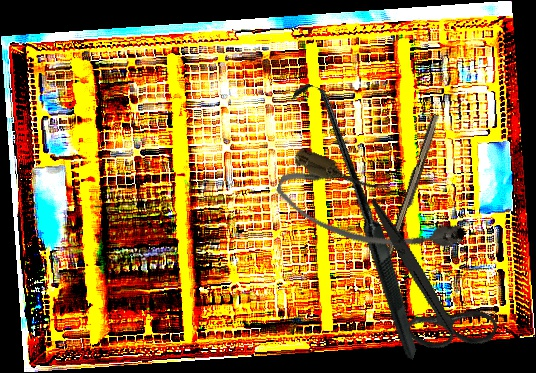Cannula: (269, 144, 472, 280)
Hook Surgical: (220, 80, 492, 360)
Iris Scissors: (326, 198, 526, 370)
Scalpel Handle: (377, 112, 443, 279)
